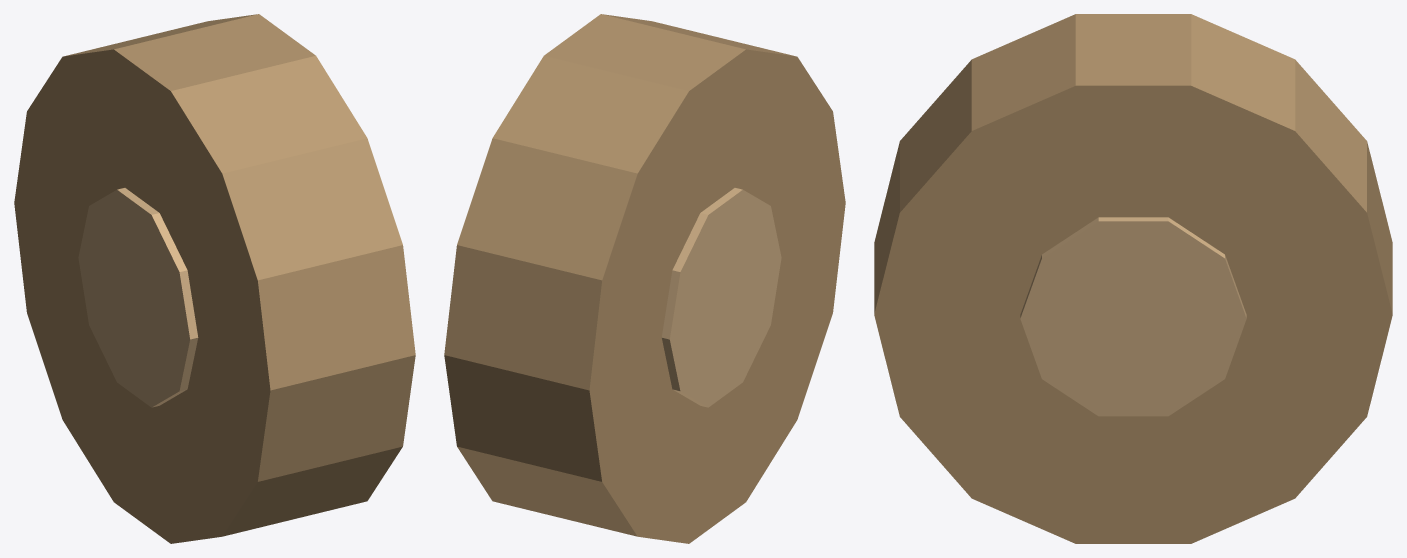
Rendered from SM_Fort_Wheel_01.glb.
3 views of the same model, side by side, from view 1: azimuth 30°, elevation 25°; view 2: azimuth 150°, elevation 25°; view 3: azimuth 270°, elevation 25° (orthographic).
Visible parts, largest first — view 1: SM_Fort_Wheel_Tire, SM_Fort_Wheel_Hub; view 2: SM_Fort_Wheel_Tire, SM_Fort_Wheel_Hub; view 3: SM_Fort_Wheel_Tire, SM_Fort_Wheel_Hub.
Boxes of the visible parts, left/top/right/bottom form: SM_Fort_Wheel_Tire: left=14, top=14, right=415, bottom=543; SM_Fort_Wheel_Hub: left=78, top=188, right=198, bottom=407; SM_Fort_Wheel_Tire: left=444, top=14, right=845, bottom=543; SM_Fort_Wheel_Hub: left=661, top=188, right=781, bottom=407; SM_Fort_Wheel_Tire: left=874, top=14, right=1392, bottom=543; SM_Fort_Wheel_Hub: left=1020, top=217, right=1246, bottom=416.
Bounding box in the file's own units: 0.2 × 0.5362 × 0.55.
